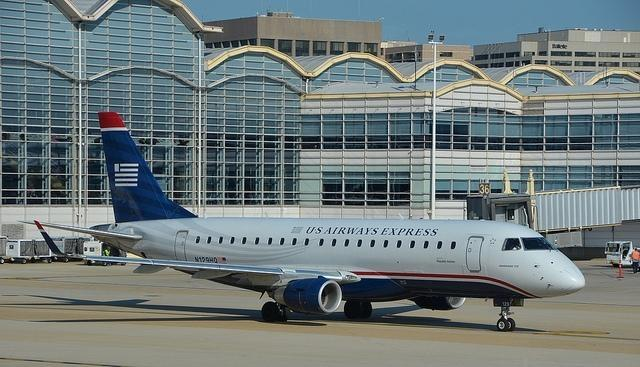truck: (84, 240, 128, 266), (604, 241, 640, 267)
